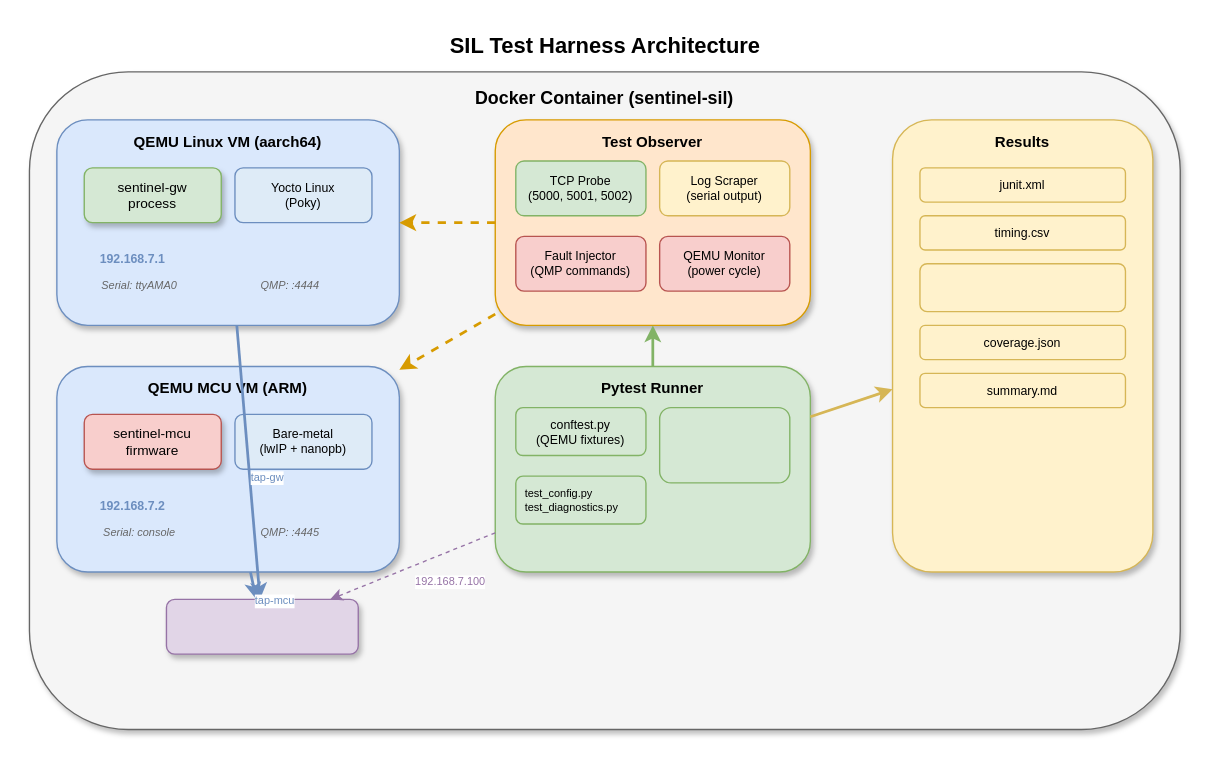
Some shapes in this 1212 by 763 pixel diagram are drawn without their labels. The centre of each missing label's shape, as x and y in pixels:
br-sentinel (Linux bridge): the point at 263,628
serial_linux.log serial_mcu.log: the point at 1022,287
test_startup.py test_telemetry.py test_actuator.py test_failsafe.py: the point at 724,444
